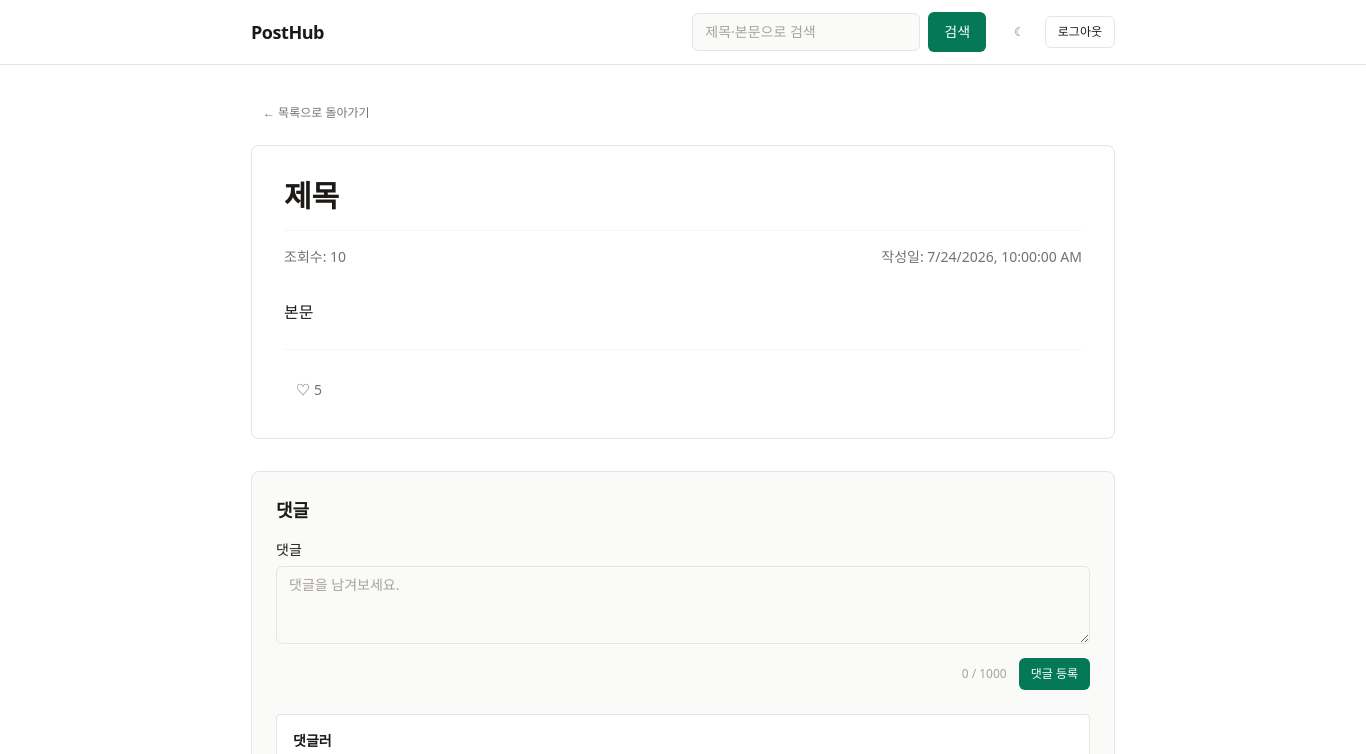
Scenario: PostDetailPage 삭제 확인과 댓글 검증 › 빈 댓글은 인라인 오류를 보여주고 전송하지 않는다
Click the button "댓글 등록" at (1054, 674), box [1019, 658, 1090, 690]
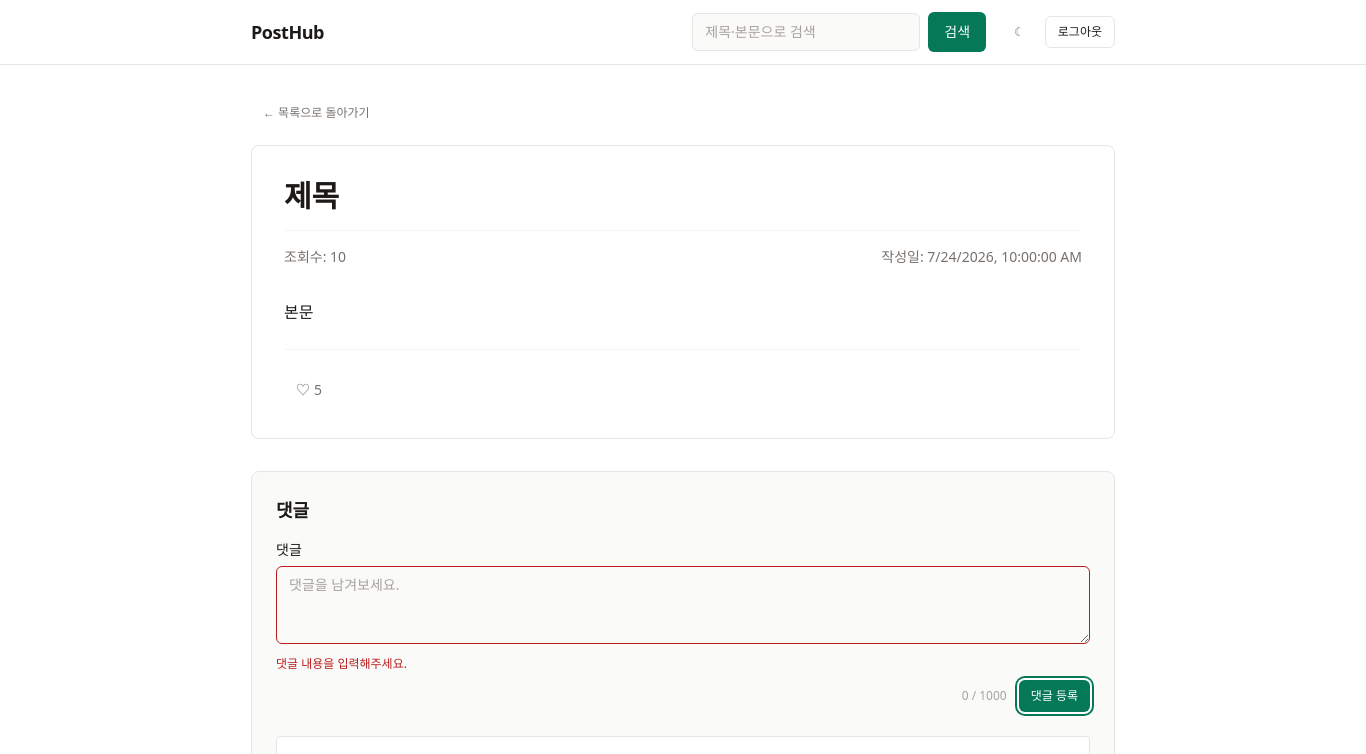
Result: the message reads "댓글 내용을 입력해주세요." at [276, 655, 407, 672]
